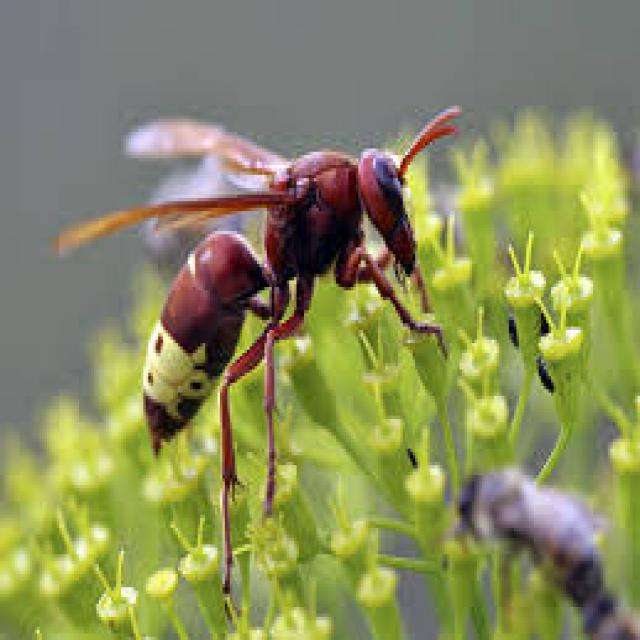Vespa Orientalis: (34, 73, 477, 636)
